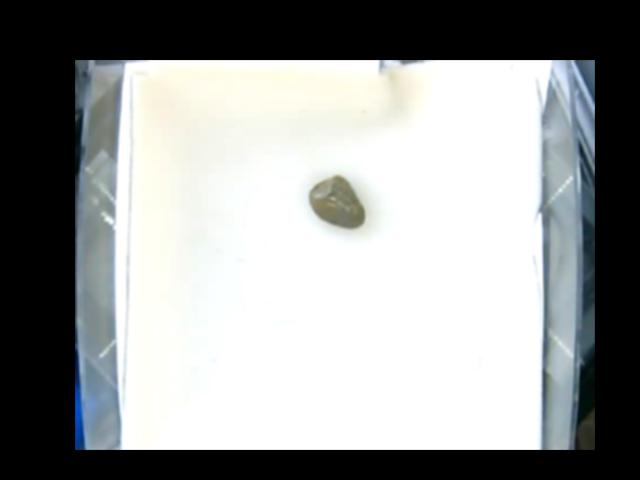Pebble: (308, 173, 366, 230)
